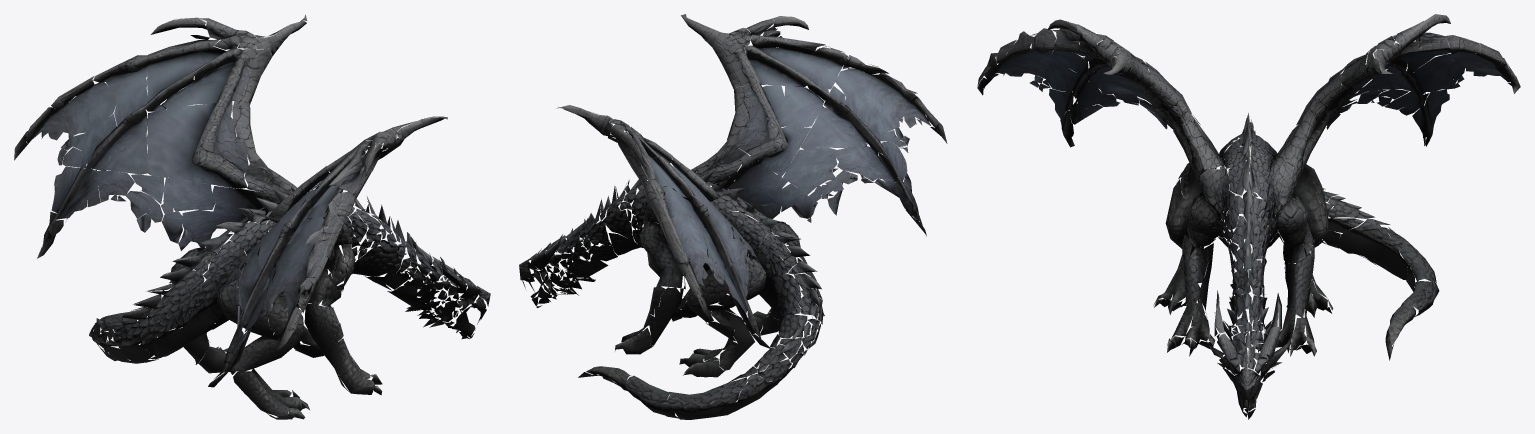
The model's file is dragon-render-6k.glb.
3 renders of one model, left to right at view 1: azimuth 30°, elevation 25°; view 2: azimuth 150°, elevation 25°; view 3: azimuth 270°, elevation 25°, orthographic. The views are drawn at different scales.
Parts seen in each view (by area): view 1: abyss-dragon_DIRECT_LOD2; view 2: abyss-dragon_DIRECT_LOD2; view 3: abyss-dragon_DIRECT_LOD2.
Part boxes in pixels (x1,y1,x2,y2): abyss-dragon_DIRECT_LOD2: (14, 14, 490, 419); abyss-dragon_DIRECT_LOD2: (519, 14, 947, 419); abyss-dragon_DIRECT_LOD2: (977, 14, 1520, 419).
Bounding box in the file's own units: 12.57 × 9.97 × 15.88.
Materials: 1 (1 with a texture image).
